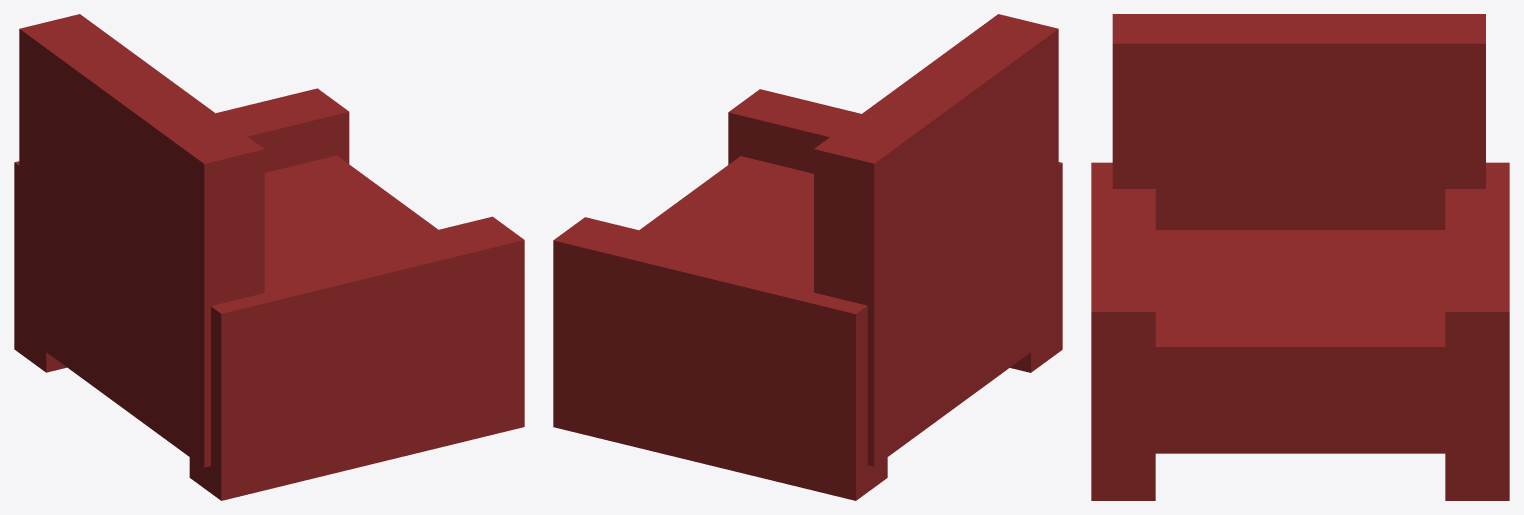
File: couch3.dae
3 views of the same model, side by side, from view 1: azimuth 30°, elevation 25°; view 2: azimuth 150°, elevation 25°; view 3: azimuth 270°, elevation 25° (orthographic).
Parts seen in each view (by area): view 1: Cube.3, Cube.1, Cube, Cube.2; view 2: Cube.3, Cube.2, Cube, Cube.1; view 3: Cube.3, Cube, Cube.2, Cube.1.
Boxes of the visible parts, bbox=[...] form: Cube.3: bbox=[19, 14, 264, 467]; Cube.1: bbox=[189, 216, 524, 500]; Cube: bbox=[264, 155, 438, 271]; Cube.2: bbox=[14, 88, 349, 372]; Cube.3: bbox=[814, 14, 1058, 466]; Cube.2: bbox=[553, 217, 887, 500]; Cube: bbox=[639, 156, 813, 272]; Cube.1: bbox=[728, 89, 1062, 372]; Cube.3: bbox=[1112, 14, 1485, 229]; Cube: bbox=[1155, 230, 1445, 453]; Cube.2: bbox=[1445, 162, 1509, 500]; Cube.1: bbox=[1091, 162, 1155, 500].
Size of the model in its own units: 105 by 107 by 121.
